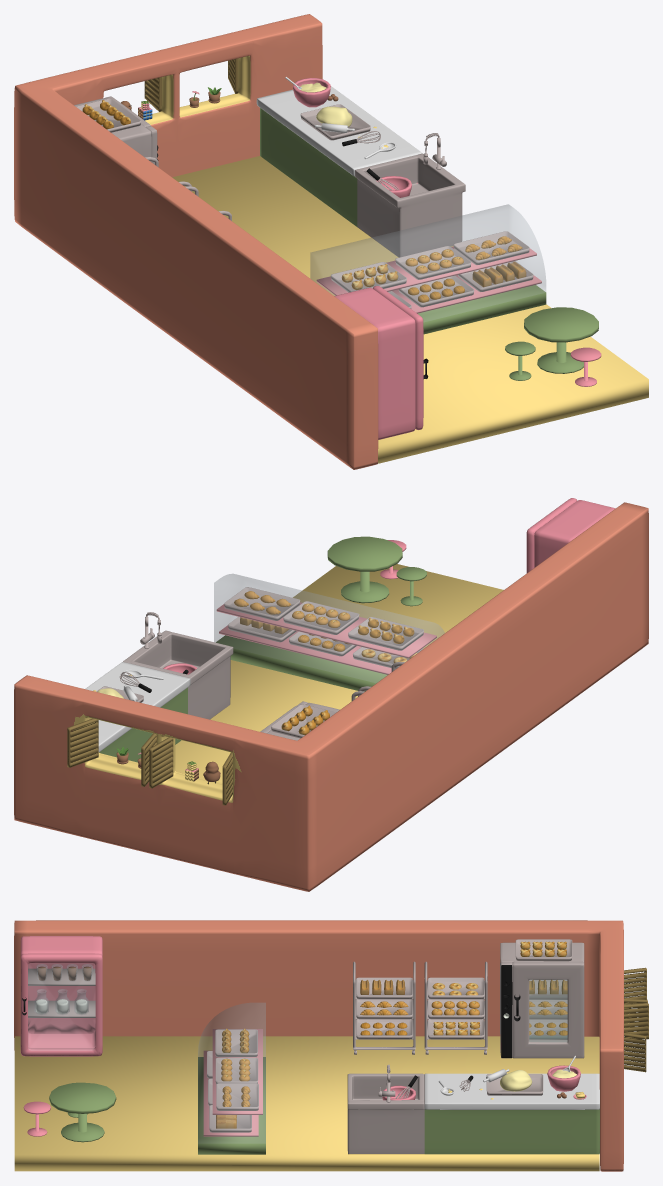
File: MODEL_Kitchen.fbx
3 renders of one model, top to bottom at view 1: azimuth 30°, elevation 25°; view 2: azimuth 150°, elevation 25°; view 3: azimuth 270°, elevation 25°, orthographic. The views are drawn at different scales.
Visible parts, largest first — view 1: wall.001, bear bun.002, Catloaf.001, cross bread.002, bun.001; view 2: wall.001, bear bun.002, cross bread.002, croissant.001; view 3: wall.001, bear bun.002, Catloaf.001, croissant.001, cross bread.002, bun.001, bagel.002.
Part boxes in pixels (<box>): wall.001: <box>14,14,648,469</box>; bear bun.002: <box>82,100,398,289</box>; Catloaf.001: <box>472,261,526,287</box>; cross bread.002: <box>405,249,463,273</box>; bun.001: <box>408,278,464,302</box>; wall.001: <box>14,498,648,891</box>; bear bun.002: <box>281,618,414,735</box>; cross bread.002: <box>292,603,350,627</box>; croissant.001: <box>234,591,291,614</box>; wall.001: <box>14,920,648,1171</box>; bear bun.002: <box>222,941,566,1053</box>; Catloaf.001: <box>216,979,567,1128</box>; croissant.001: <box>222,1001,567,1106</box>; cross bread.002: <box>221,1001,479,1081</box>; bun.001: <box>360,1022,567,1035</box>; bagel.002: <box>432,983,478,995</box>.
Size of the model in its own units: 846 by 370 by 1735.
